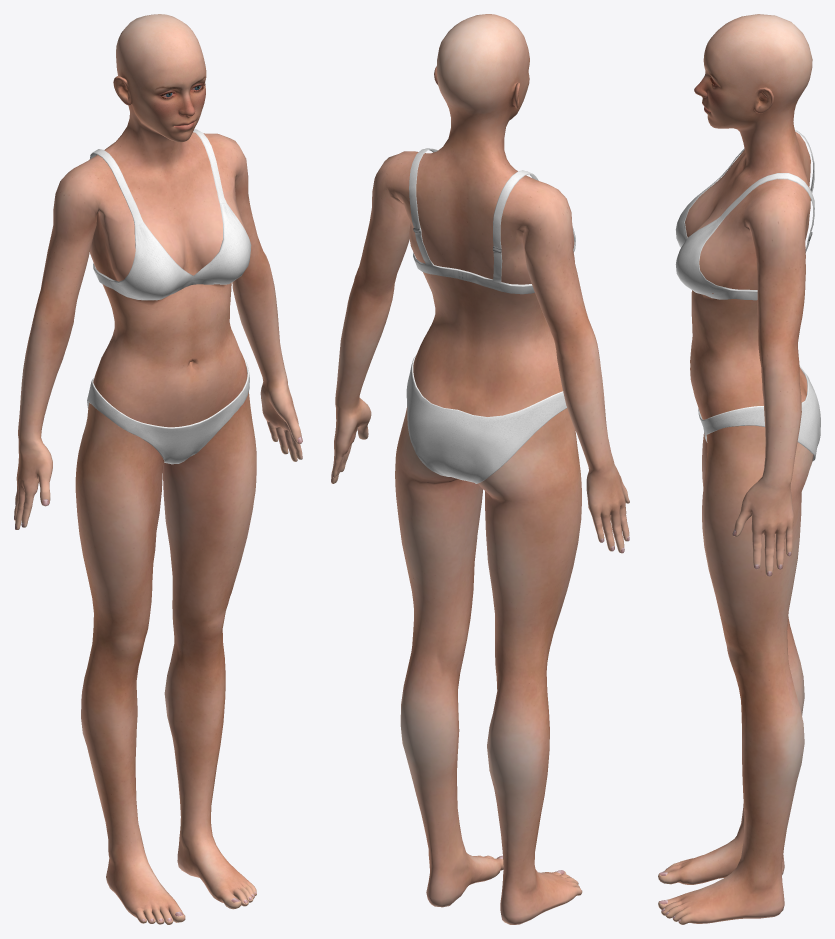
The model's file is womanBody.obj.
The picture shows the model from 3 angles, left to right: view 1: azimuth 30°, elevation 25°; view 2: azimuth 150°, elevation 25°; view 3: azimuth 270°, elevation 25°; orthographic projection. The views are drawn at different scales.
Visible parts, largest first — view 1: CC_Base_Body, Bra, Underwear Bottoms; view 2: CC_Base_Body, Underwear Bottoms, Bra; view 3: CC_Base_Body, Bra, Underwear Bottoms.
Boxes of the visible parts, box(x1,y1,x2,y2) form: CC_Base_Body: box(14, 14, 302, 924); Bra: box(89, 129, 251, 300); Underwear Bottoms: box(87, 360, 249, 464); CC_Base_Body: box(331, 14, 629, 924); Underwear Bottoms: box(406, 356, 566, 483); Bra: box(409, 148, 575, 294); CC_Base_Body: box(658, 14, 813, 924); Bra: box(675, 130, 814, 300); Underwear Bottoms: box(698, 366, 820, 460).
Size of the model in its own units: 61.34 by 179 by 30.09.
